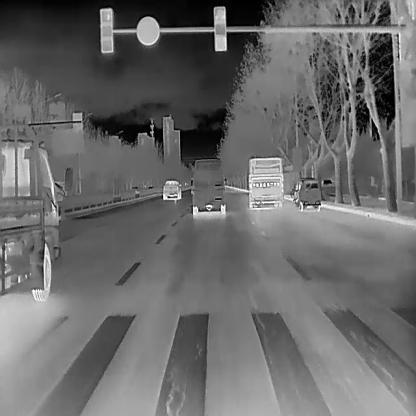car: (0, 121, 75, 300), (189, 157, 227, 221), (246, 155, 285, 210), (291, 177, 322, 210), (161, 176, 183, 203)
